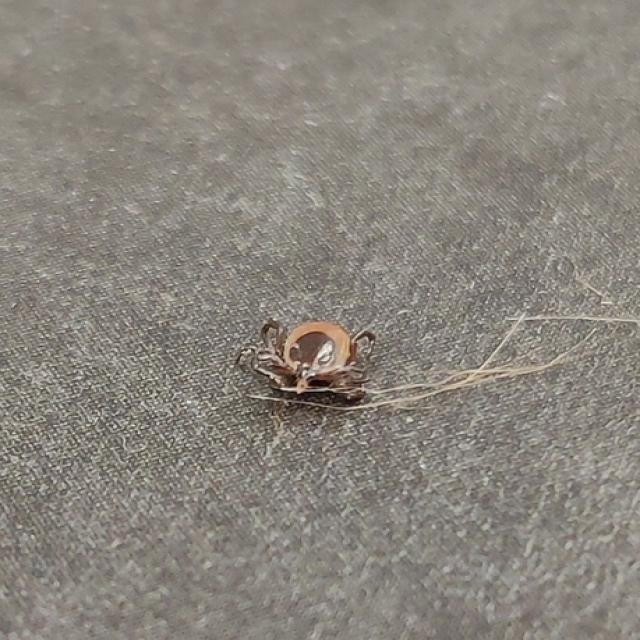Ixodes Ricinus-F: (234, 320, 382, 408)
